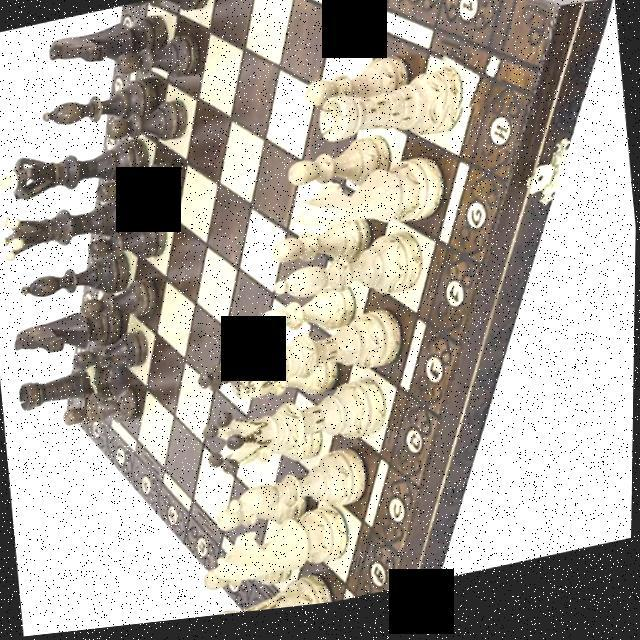chess-table-corners: (436, 56, 505, 126), (80, 355, 132, 427)
